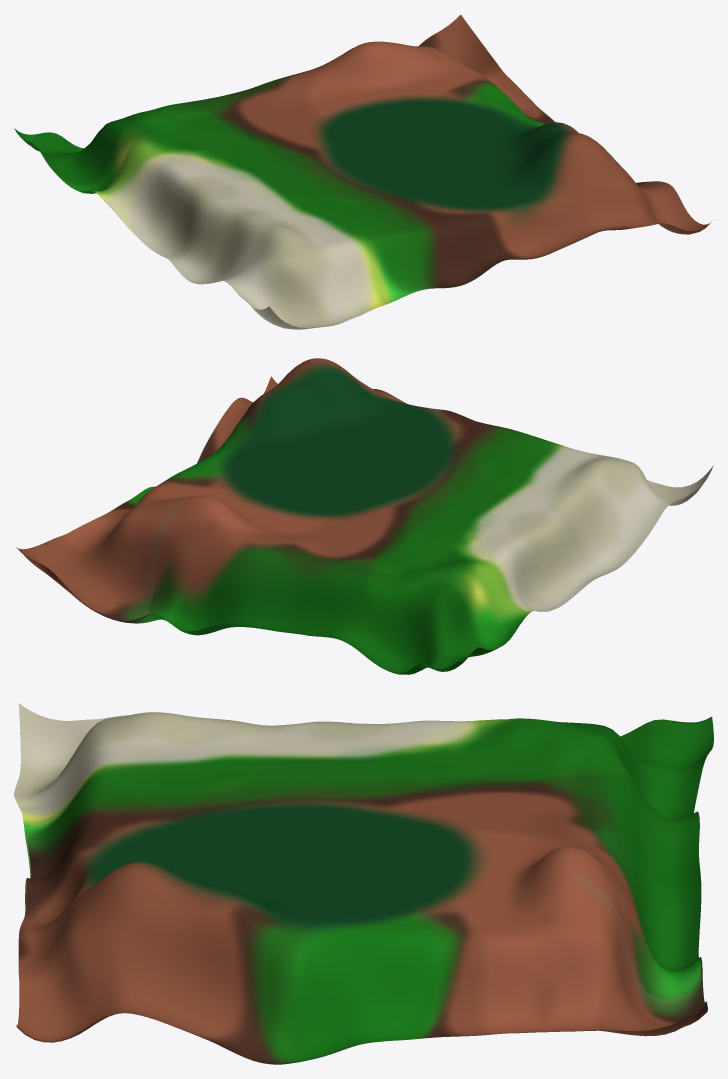
Rendered from terrain.gltf.
3 renders of one model, top to bottom at view 1: azimuth 30°, elevation 25°; view 2: azimuth 150°, elevation 25°; view 3: azimuth 270°, elevation 25°, orthographic. The views are drawn at different scales.
Parts seen in each view (by area): view 1: Plane; view 2: Plane; view 3: Plane.
Part boxes in pixels (box(x1,y1,x2,y2)): Plane: box(14, 15, 711, 329); Plane: box(16, 358, 713, 674); Plane: box(14, 703, 713, 1064).
Size of the model in its own units: 307 by 73.33 by 305.
Materials: 1 (1 with a texture image).
